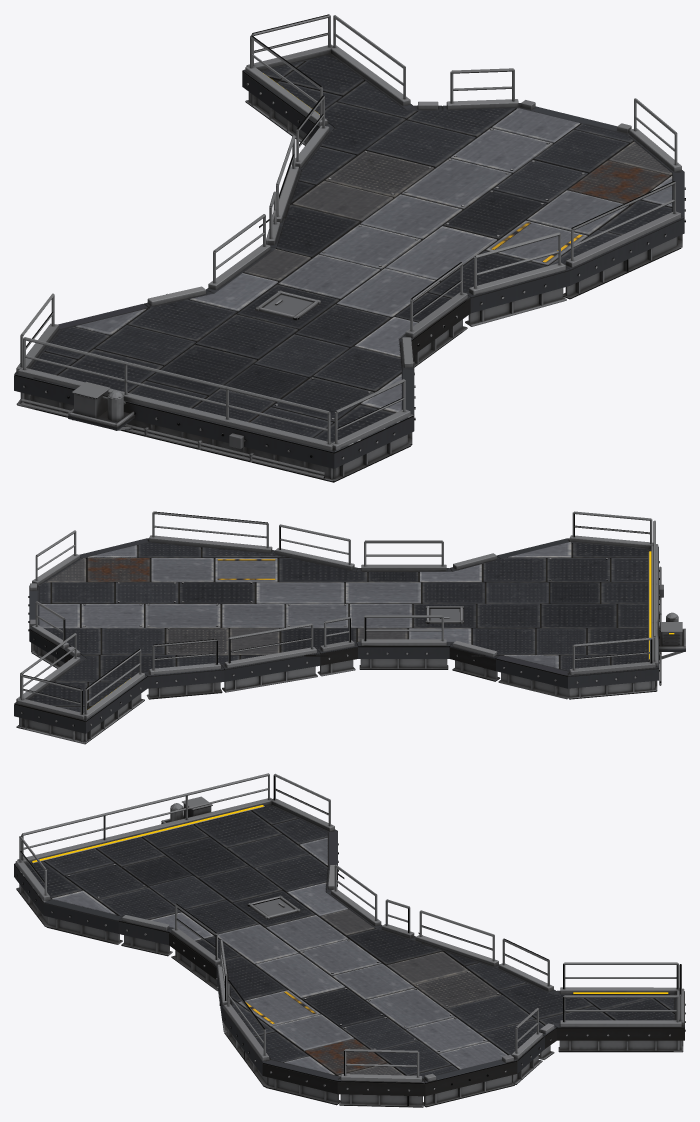
Rendered from nodexeus-set-deck-l2.glb.
The picture shows the model from 3 angles, top to bottom: view 1: azimuth 30°, elevation 25°; view 2: azimuth 150°, elevation 25°; view 3: azimuth 270°, elevation 25°; orthographic projection. The views are drawn at different scales.
Parts seen in each view (by area): view 1: set-deck-l2; view 2: set-deck-l2; view 3: set-deck-l2.
Part boxes in pixels (<box>): set-deck-l2: <box>14,14,685,482</box>; set-deck-l2: <box>14,511,685,744</box>; set-deck-l2: <box>14,773,685,1107</box>.
Bounding box in the file's own units: 20.12 × 1.86 × 20.21.
Materials: 1 (1 with a texture image).
